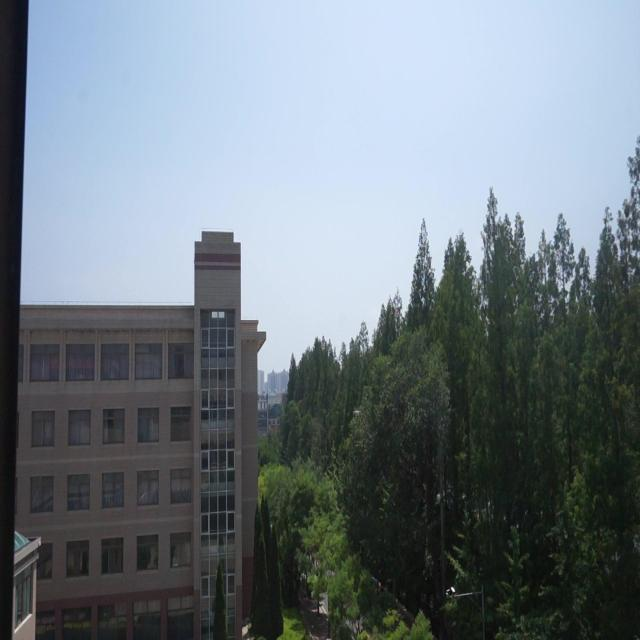drone: (351, 402, 362, 418)
